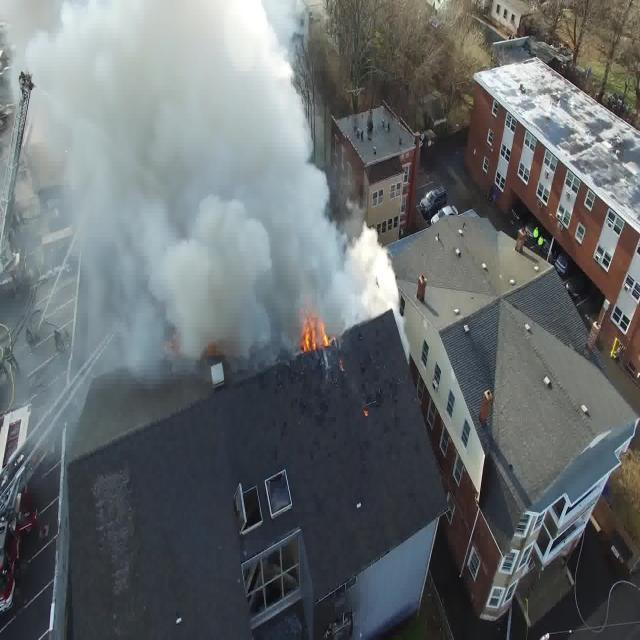Smoke: (0, 0, 412, 405)
